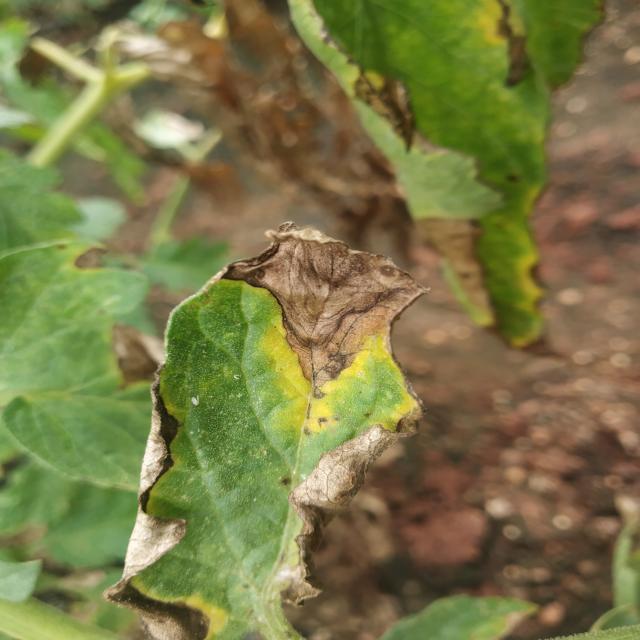Tomato mosaic virus leaf: (97, 212, 436, 638)
